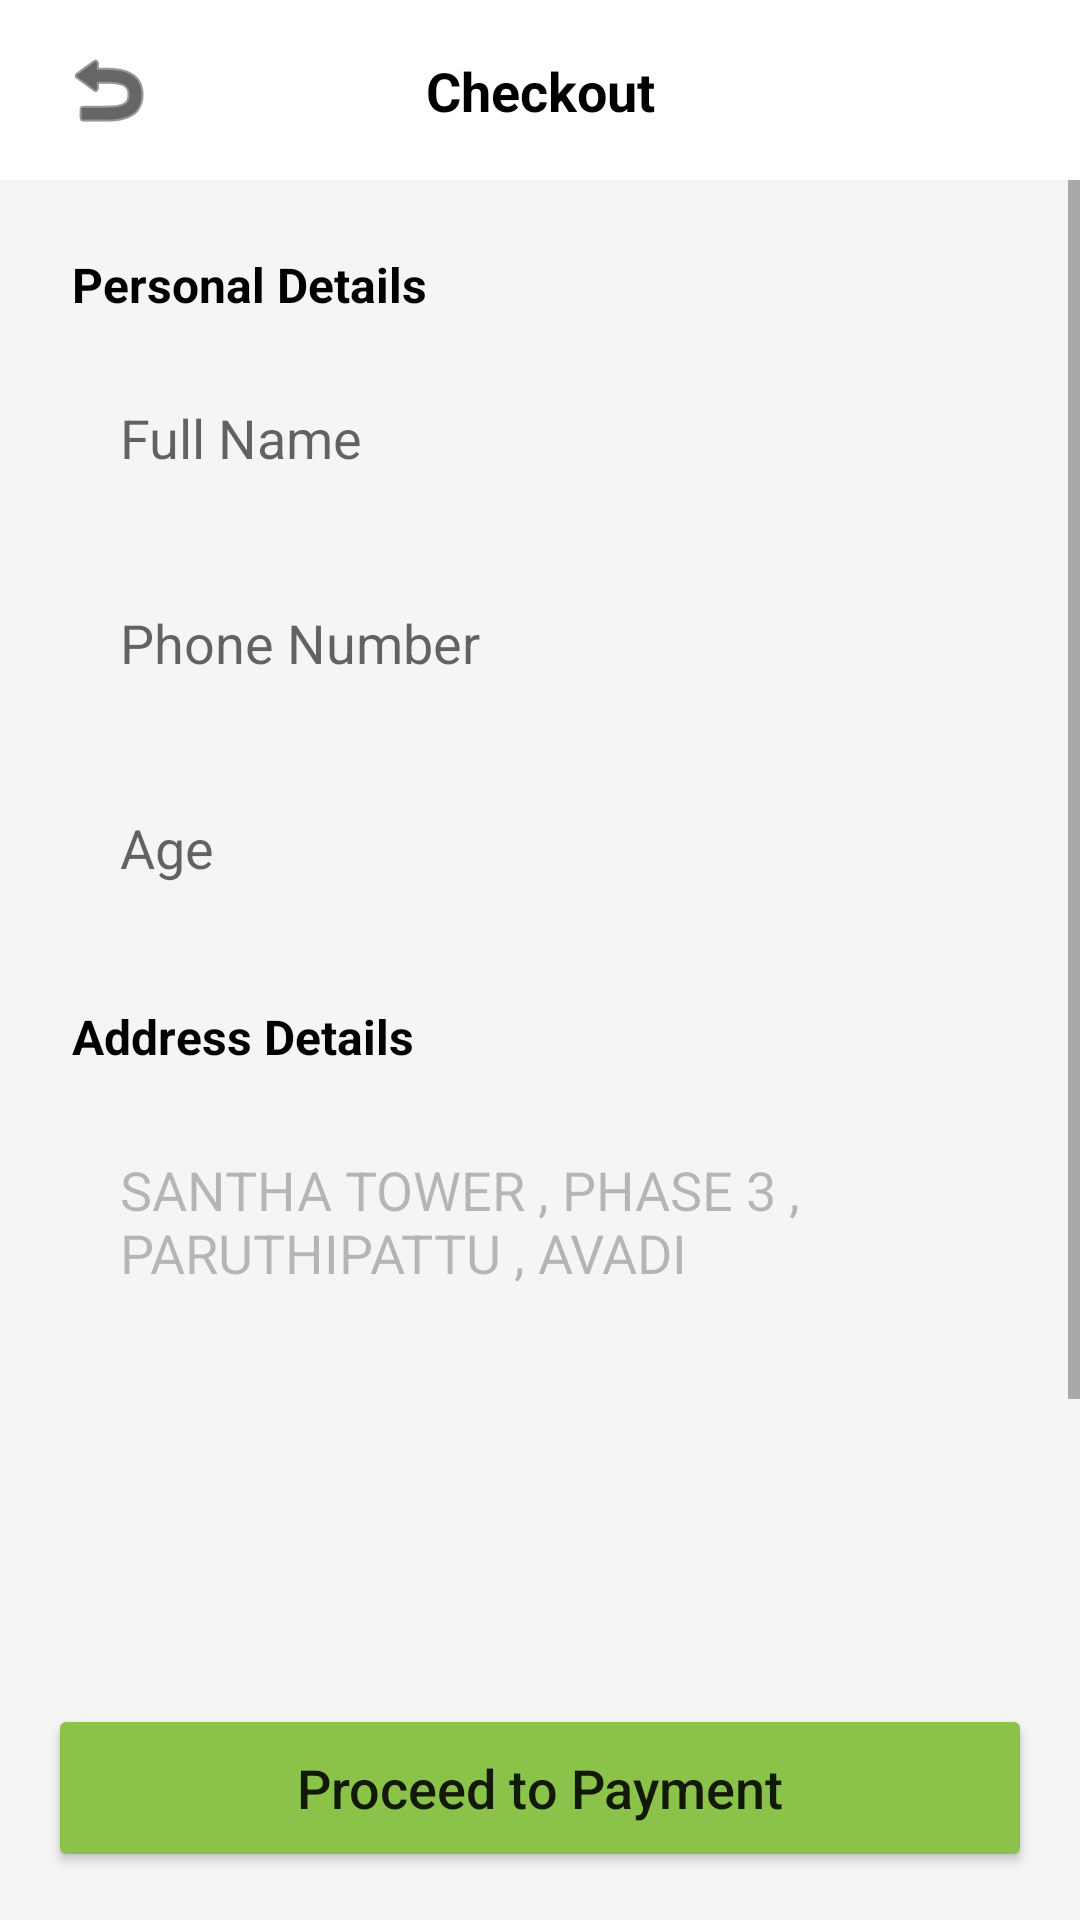

Icons on this 1080 × 1920 Android screen, each with its box as (x1, y1, x2, y2):
revert: (75, 59, 144, 122)
